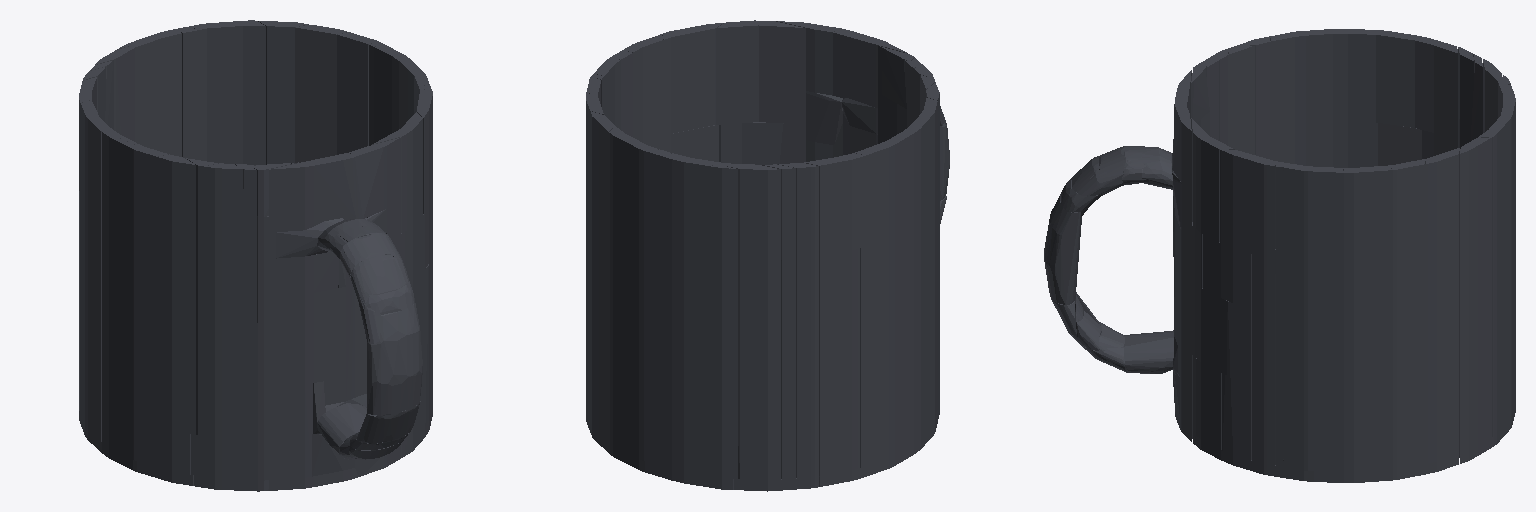
URDF robot description (../obj/cup.urdf):
<?xml version="1.0" ?>
<robot name="../obj/cup.urdf">
  <link name="baseLink">
    <inertial>
      <origin rpy="0 0 0" xyz="0.0018 0.0287 -0.0138"/>
       <mass value="50"/>
       <inertia ixx="9.482657372829757e-06" ixy="-3.8717231653624276e-08" ixz="2.865879547464039e-08" iyy="7.58535329788368e-06" iyz="1.7370033373937232e-07" izz="9.49578107097457e-06"/>
    </inertial>
    <visual>
      <origin rpy="0 0 0" xyz="0.0018 0.0287 -0.0138"/>
      <geometry>
        <mesh filename="../obj/cup_vhacd.obj" 
		scale="2.0 2.0 2.0"/>
      </geometry>
     <material name="grey">
      <color rgba="0.32 0.33 0.36 1"/>
     </material>
    </visual>
    <collision>
      <origin rpy="0 0 0" xyz="0.0018 0.0287 -0.0138"/>
      <geometry>
        <mesh filename="../obj/cup_vhacd.obj" scale="2.0 2.0 2.0"/>
      </geometry>
    </collision>
  </link>
</robot>
        

--- What the picture shows (computed from the rendered views, not written in the file) ---
3 views of the same robot in one strip: view 1: azimuth 30°, elevation 25°; view 2: azimuth 150°, elevation 25°; view 3: azimuth 270°, elevation 25° (orthographic).
Robot: ../obj/cup.urdf — 1 links, 0 joints (none); root link baseLink; default pose: all joints at 0.
Links seen in each view (by area): view 1: baseLink; view 2: baseLink; view 3: baseLink.
Boxes of the visible links, x1,y1,x2,y2 form: baseLink: (79, 20, 432, 491); baseLink: (586, 20, 949, 491); baseLink: (1044, 29, 1515, 482).
Size in the robot's own frame: 0.3875 by 0.5353 by 0.3892 metres.
Meshes: 1 distinct files referenced, 1 mesh visuals loaded (1 OBJ).